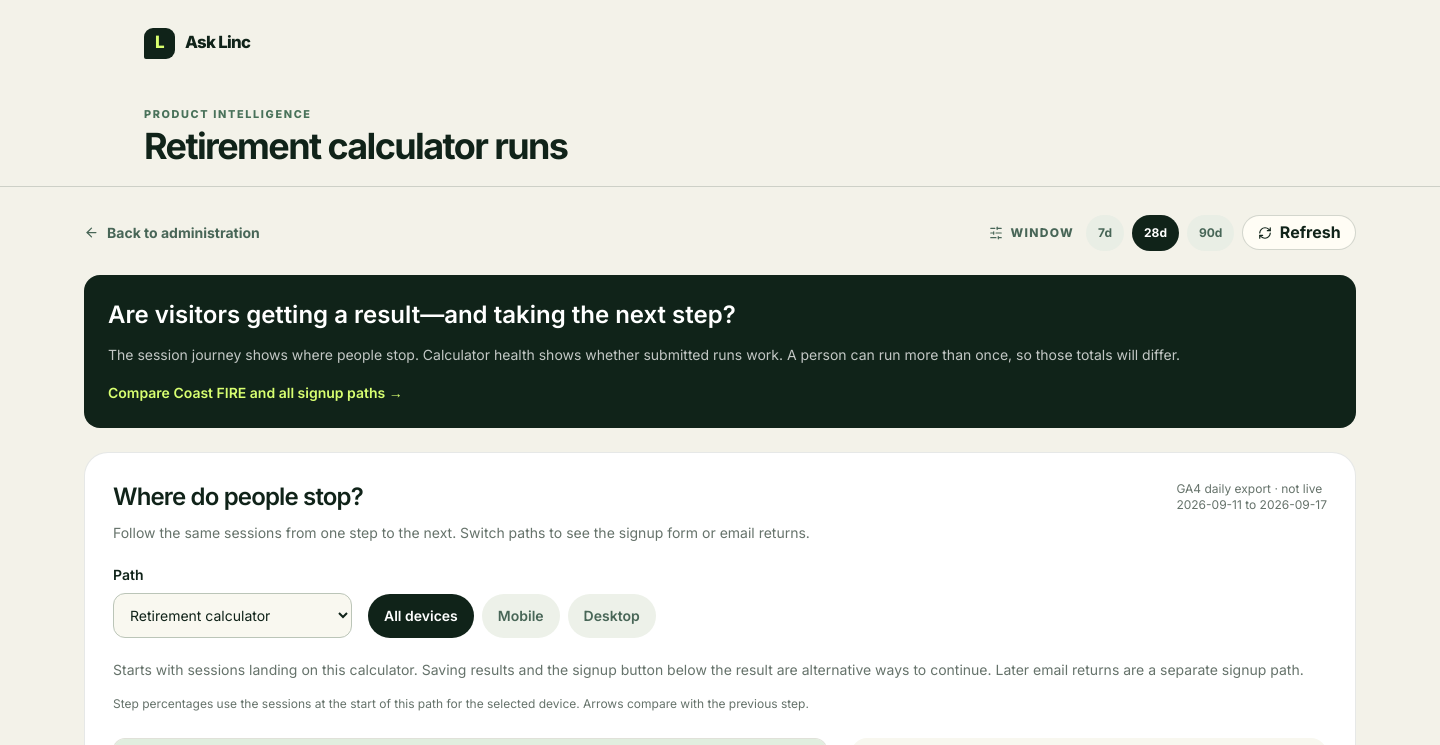
it: simplified admin journeys › ignores an older health response that arrives after a newer date window
The width and height of the screenshot is (1440, 745).
Click the button "7d" at [1105, 233], box [1086,215,1124,251]
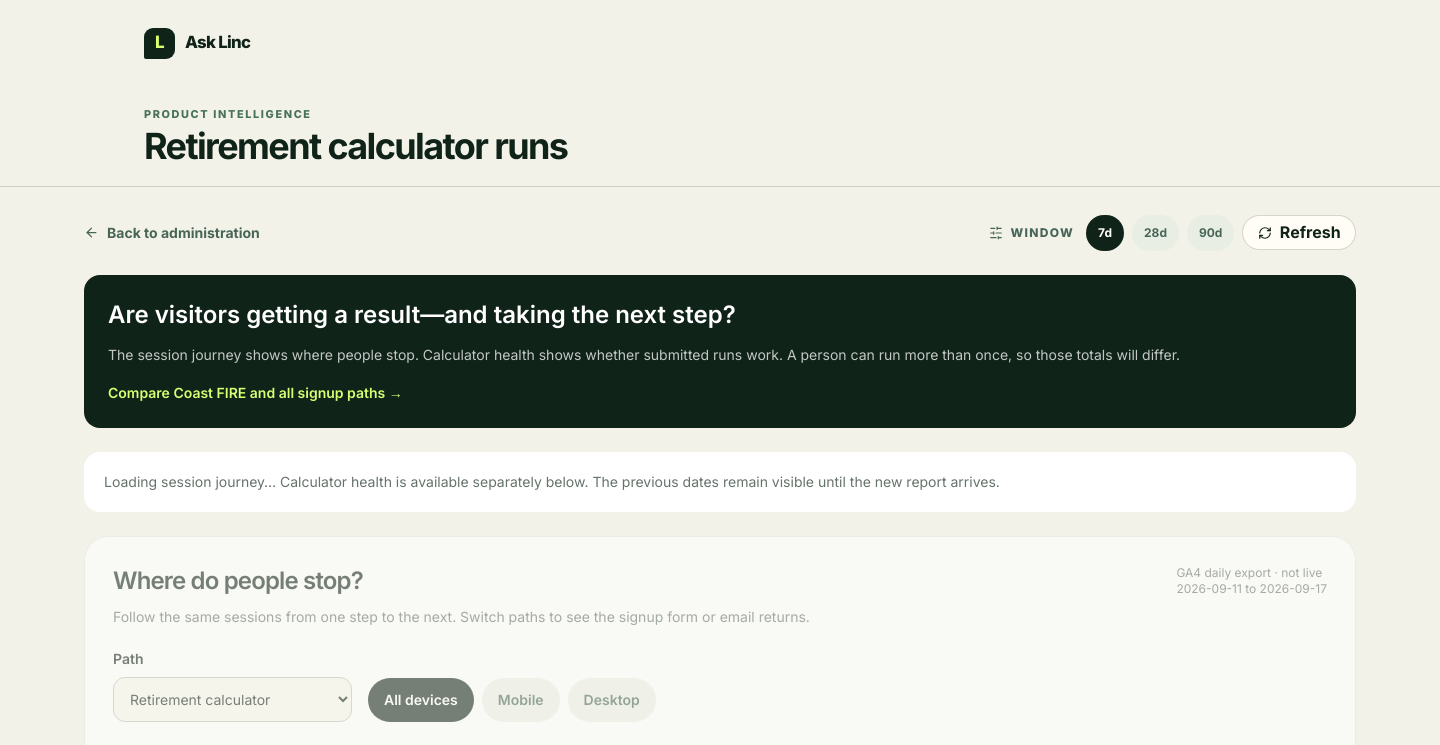
Click the button "90d" at [1211, 233], box [1187,215,1234,251]
(page scrolled)
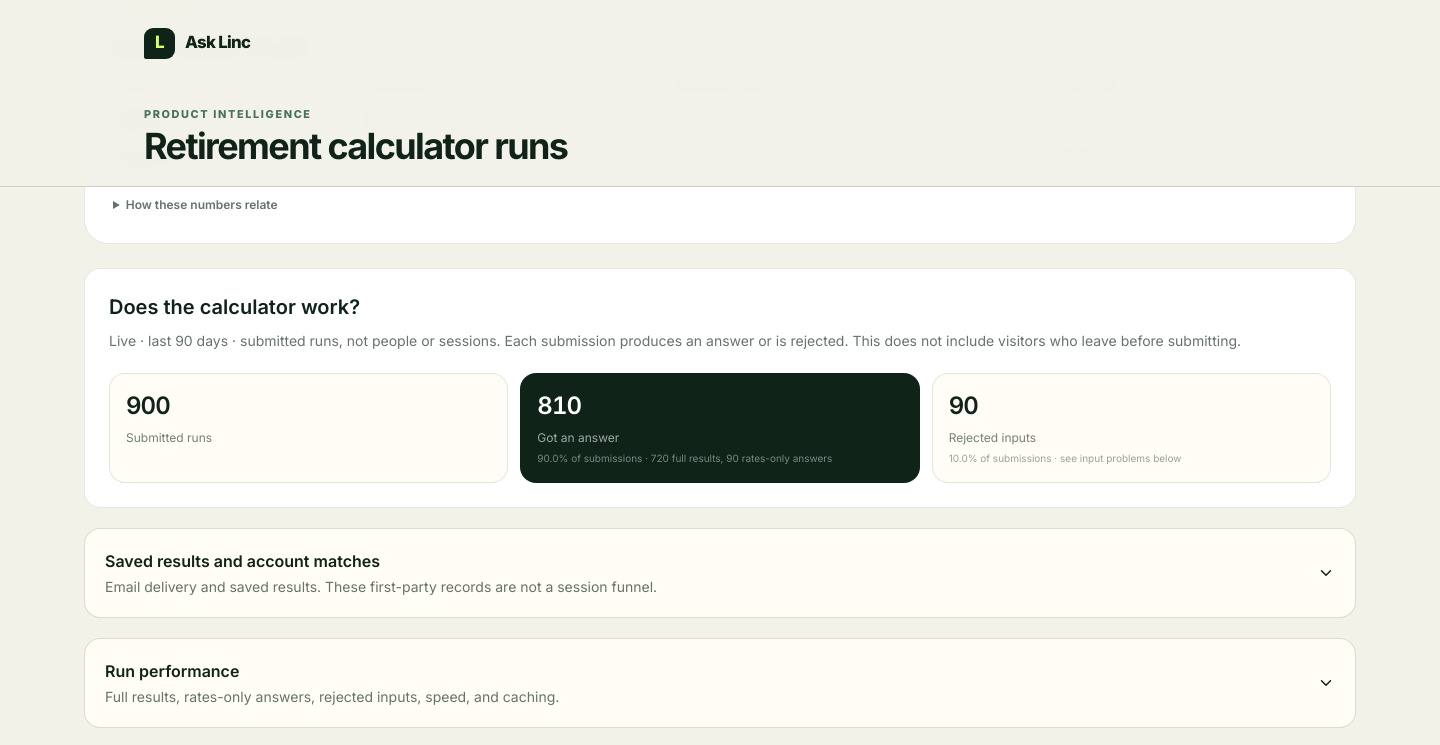
expect the element named "Calculator health" shows "Live · last 90 days": met, box [84,268,1356,508]
expect the text "900" is shown: met, box [126,391,170,420]
